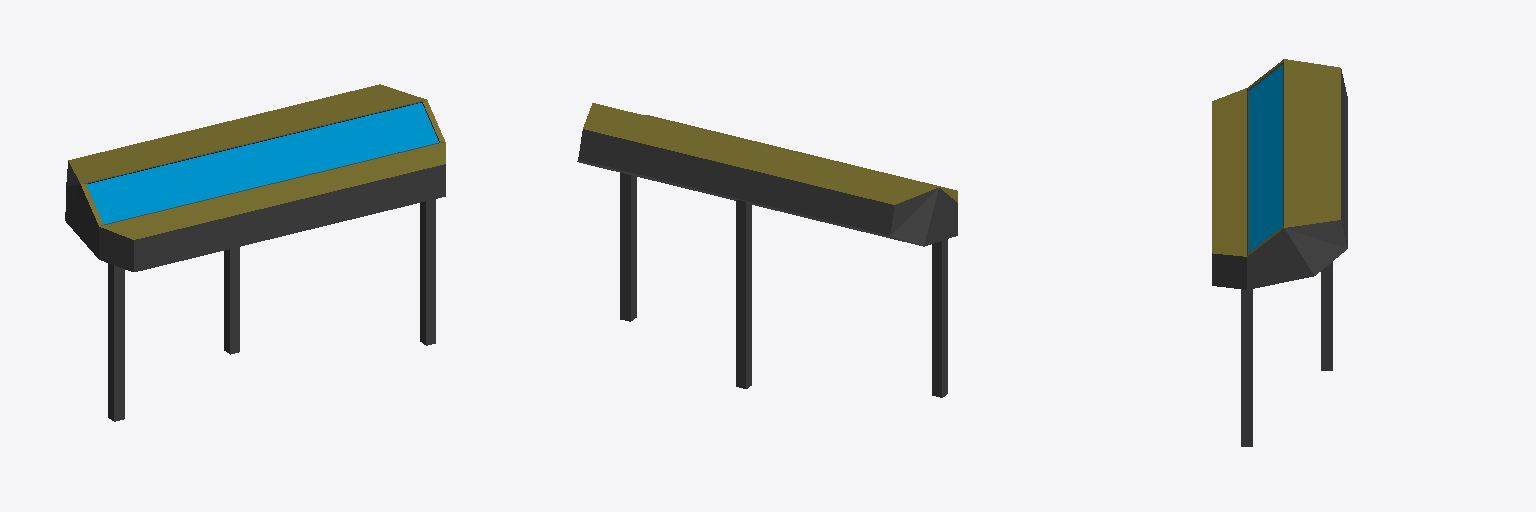
The model's file is information_panel.obj.
3 views of the same model, side by side, from view 1: azimuth 30°, elevation 25°; view 2: azimuth 150°, elevation 25°; view 3: azimuth 270°, elevation 25° (orthographic).
Visible parts, largest first — view 1: Cube, Cube.002, Cube.003_Cube.002, Cube.001_Cube.002; view 2: Cube, Cube.001_Cube.002, Cube.002, Cube.003_Cube.002; view 3: Cube, Cube.003_Cube.002, Cube.001_Cube.002.
Boxes of the visible parts, box(x1,y1,x2,y2) form: Cube: box(65, 84, 445, 271); Cube.002: box(108, 263, 124, 421); Cube.003_Cube.002: box(420, 199, 435, 345); Cube.001_Cube.002: box(224, 247, 239, 354); Cube: box(577, 103, 957, 246); Cube.001_Cube.002: box(736, 200, 751, 388); Cube.002: box(932, 239, 947, 397); Cube.003_Cube.002: box(620, 173, 636, 321); Cube: box(1212, 59, 1347, 289); Cube.003_Cube.002: box(1241, 289, 1252, 446); Cube.001_Cube.002: box(1321, 262, 1332, 370).
Size of the model in its own units: 2 by 1.24 by 0.6762.